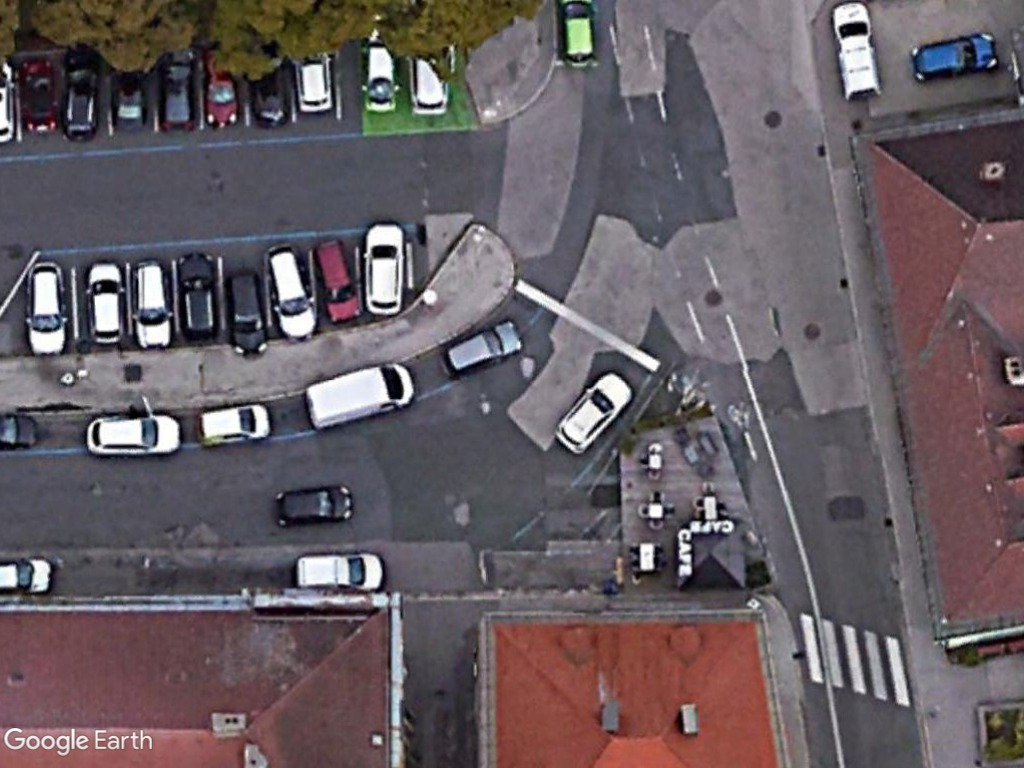car: (552, 365, 639, 459), (260, 239, 322, 343), (440, 316, 528, 381), (904, 31, 1000, 84), (127, 255, 178, 354), (22, 258, 71, 359), (81, 412, 184, 460), (360, 218, 406, 319), (312, 234, 364, 323), (272, 478, 357, 532), (174, 249, 222, 342), (83, 258, 128, 348), (195, 398, 275, 448), (224, 270, 267, 358)
van: (300, 358, 418, 433), (830, 3, 885, 104), (292, 551, 385, 596)
